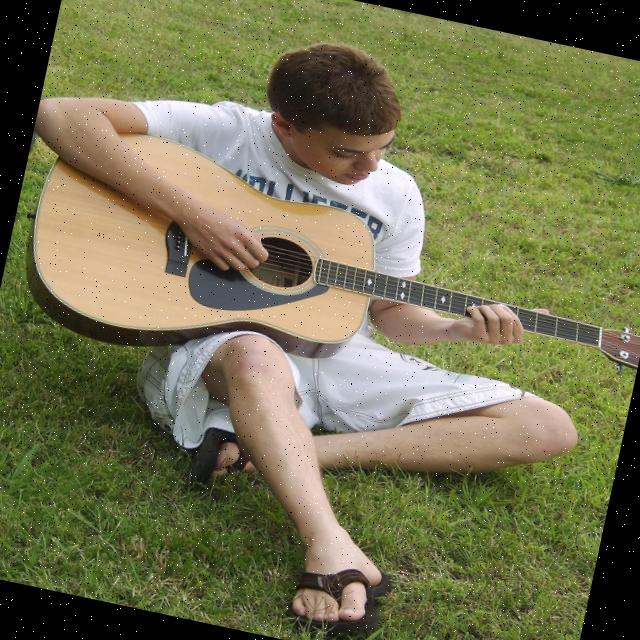guitar: (6, 113, 640, 454)
